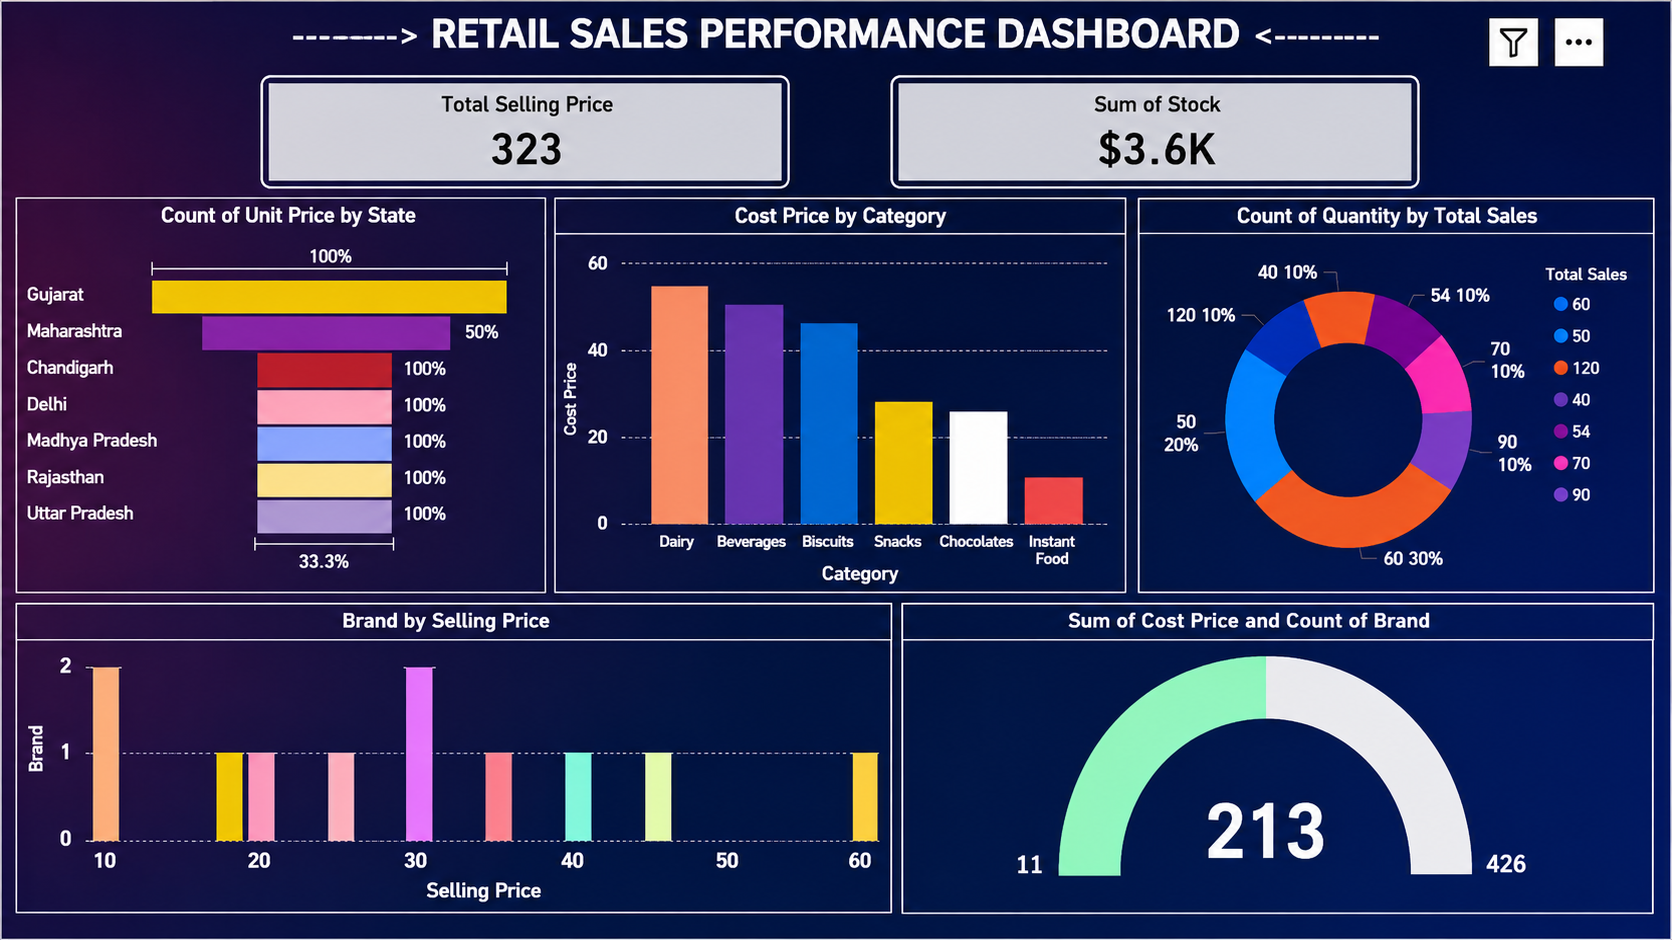

This screenshot's page, from the dashboard's own definition file:
{"tool":"powerbi","page":{"name":"Page 1","canvas":[1280,720],"ordinal":0},"visuals":[{"type":"clusteredColumnChart","fields":{"Category":["Products.Selling Price"],"Y":["CountNonNull(Products.Brand)"]},"box":[15.6,514.5,661.9,205.5],"z":0},{"type":"clusteredColumnChart","fields":{"Category":["Products.Category"],"Y":["Sum(Products.Cost Price)"]},"box":[409.6,199.8,462,296.2],"z":1000},{"type":"donutChart","fields":{"Y":["CountNonNull(Sales.Quntity)"],"Category":["Sales.Total Sales"]},"box":[884.4,199.8,384.1,296.2],"z":2000},{"type":"cardVisual","fields":{"Data":["Sum(Products.Selling Price)"]},"box":[187.1,63.8,419.5,124.7],"z":3000},{"type":"cardVisual","fields":{"Data":["Sum(Products.Stock)"]},"box":[688.8,63.8,413.9,124.7],"z":4000},{"type":"funnel","fields":{"Category":["Customers.State"],"Y":["CountNonNull(Sales.Unit Price)"]},"box":[19.8,199.8,377,296.2],"z":5000},{"type":"gauge","fields":{"Y":["Sum(Products.Cost Price)"],"MinValue":["CountNonNull(Products.Brand)"]},"box":[688.8,514.5,569.8,205.5],"z":6000},{"type":"textbox","box":[75.1,0,1116.9,126.1],"z":6001}]}

Visuals, with their boxes in screenshot pixels (x1, y1, x2, y2), scaled from the page's 1280x720 canvas onto the 1672x940 screenshot:
clusteredColumnChart - Products.Selling Price x CountNonNull(Products.Brand): 20 672 885 939
clusteredColumnChart - Products.Category x Sum(Products.Cost Price): 535 261 1139 648
donutChart - CountNonNull(Sales.Quntity) x Sales.Total Sales: 1155 261 1657 648
cardVisual - Sum(Products.Selling Price): 244 83 792 246
cardVisual - Sum(Products.Stock): 900 83 1440 246
funnel - Customers.State x CountNonNull(Sales.Unit Price): 26 261 518 648
gauge - Sum(Products.Cost Price) x CountNonNull(Products.Brand): 900 672 1644 939
textbox: 98 0 1557 165
